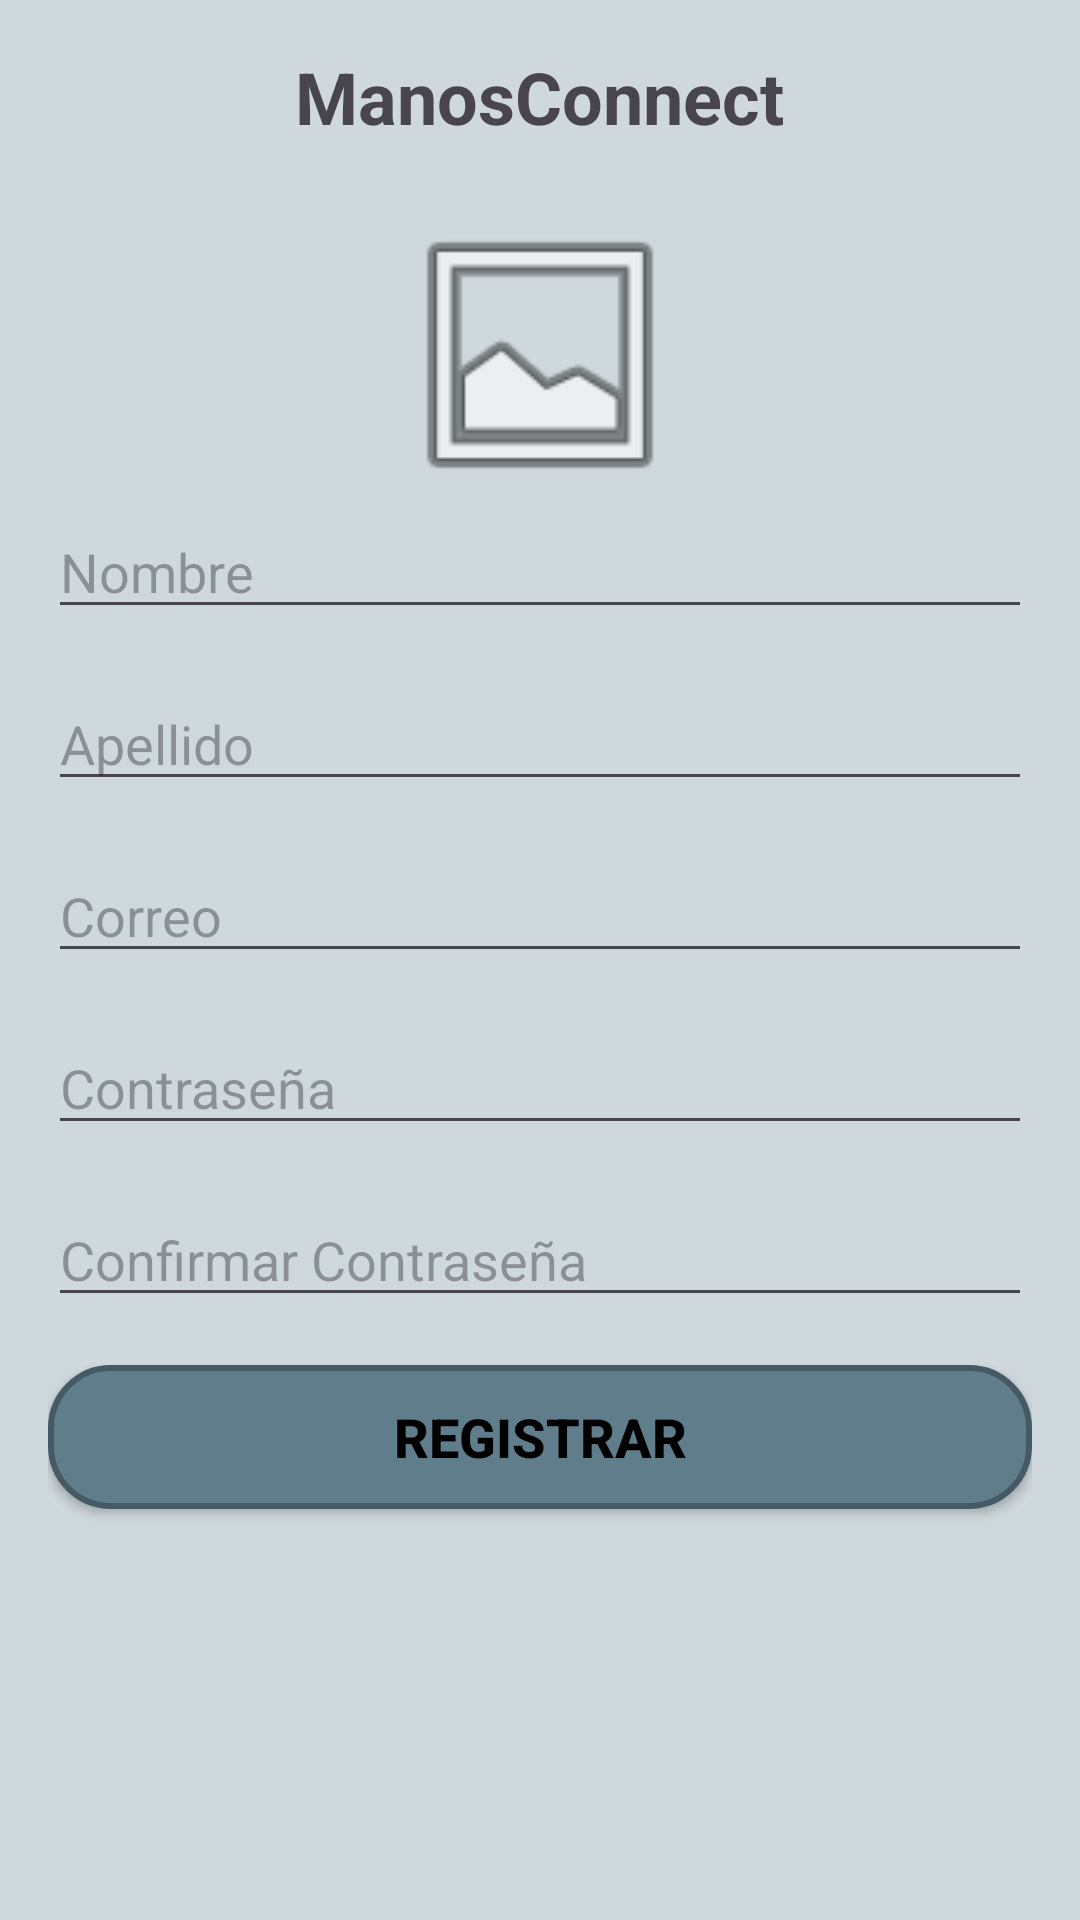

Where to tap for icons on this 1080 x 1920 app screen, as point (x, y):
gallery: point (540, 355)
